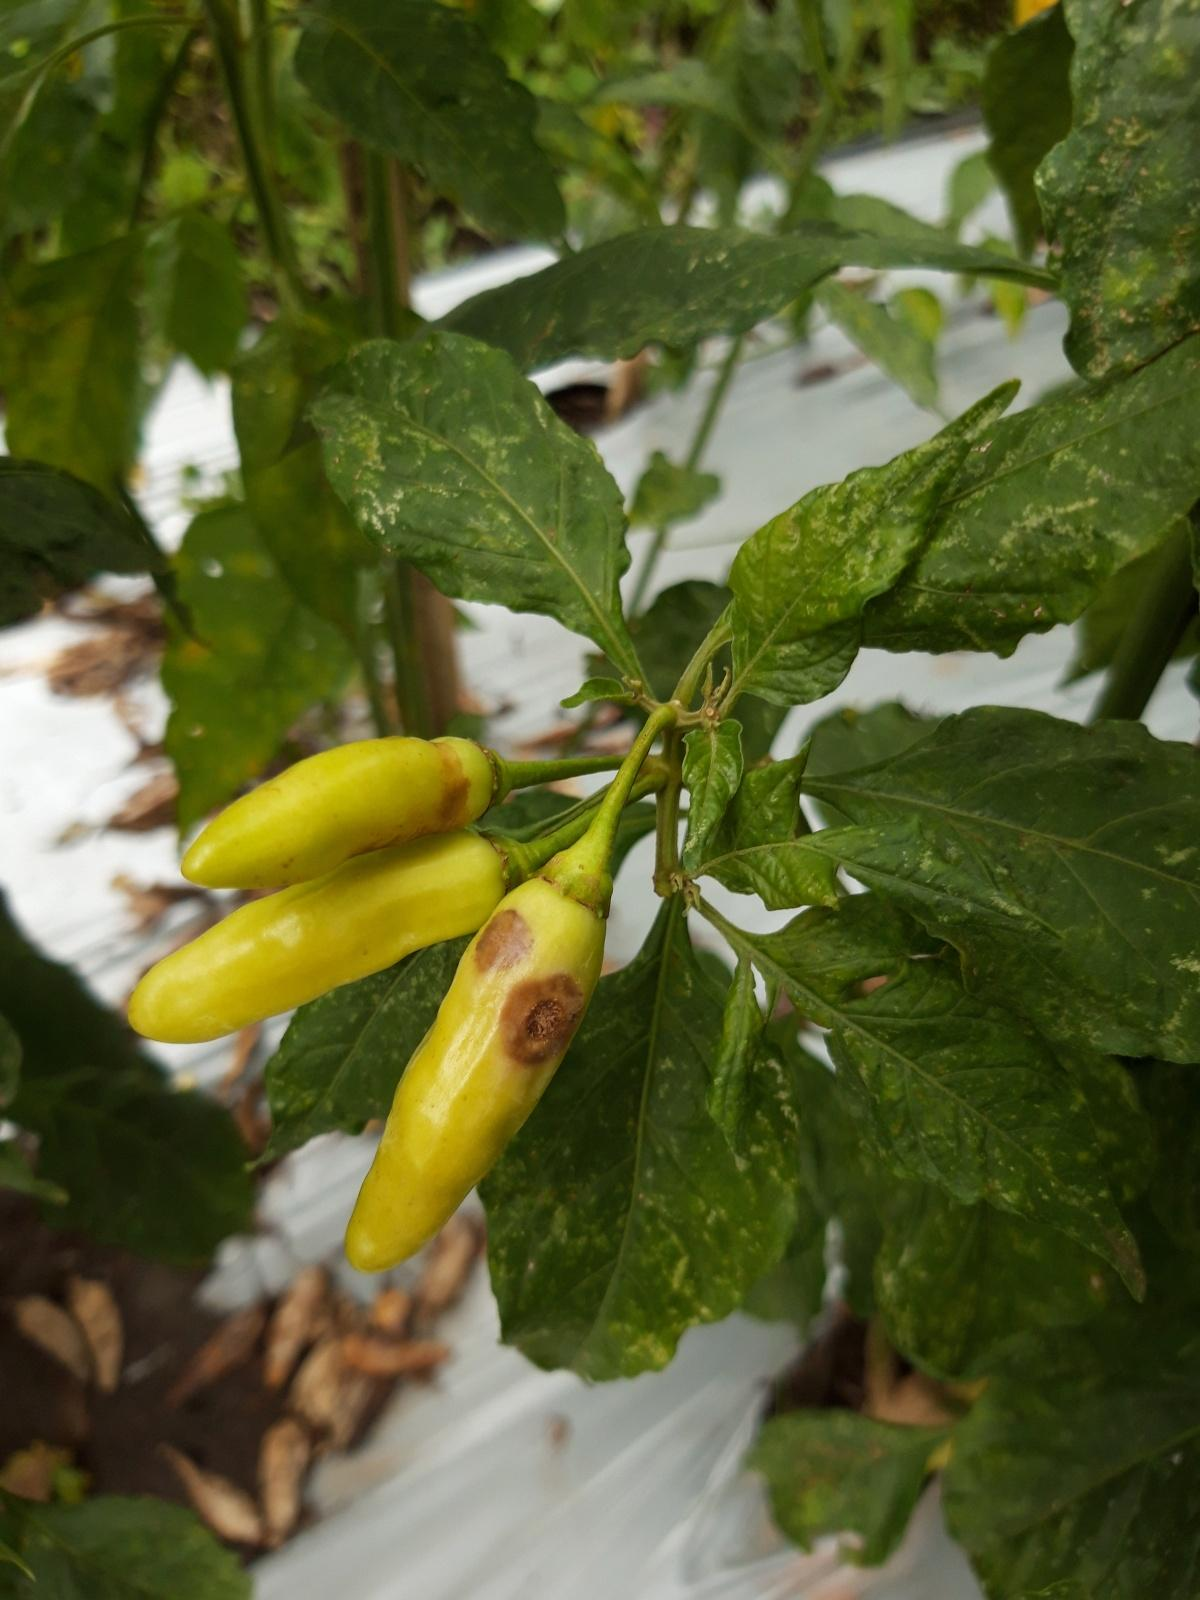cabai_normal: (129, 833, 528, 1043)
lalat_buah: (345, 853, 613, 1276), (179, 734, 504, 889)
